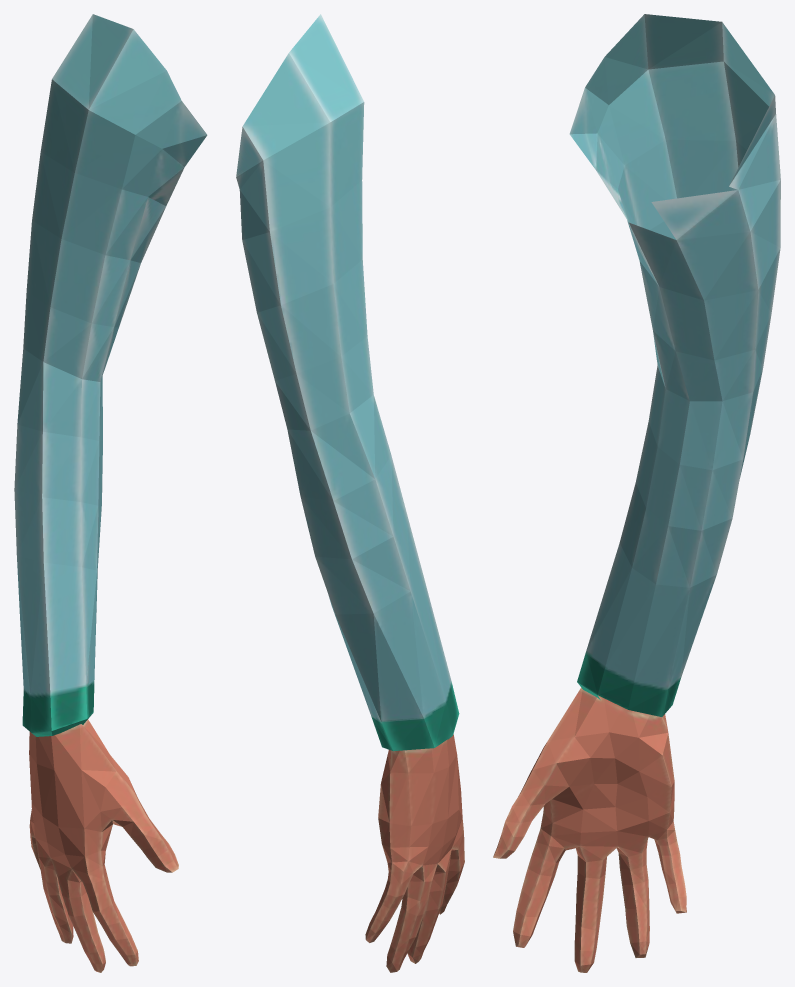
File: brazoDer.fbx
The picture shows the model from 3 angles, left to right: view 1: azimuth 30°, elevation 25°; view 2: azimuth 150°, elevation 25°; view 3: azimuth 270°, elevation 25°; orthographic projection. The views are drawn at different scales.
Parts seen in each view (by area): view 1: Human 2.001; view 2: Human 2.001; view 3: Human 2.001.
Boxes of the visible parts, x1,y1,x2,y2 form: Human 2.001: (14,14,207,972); Human 2.001: (236,14,464,972); Human 2.001: (493,14,780,972).
Size of the model in its own units: 12.83 by 71.41 by 18.77.
